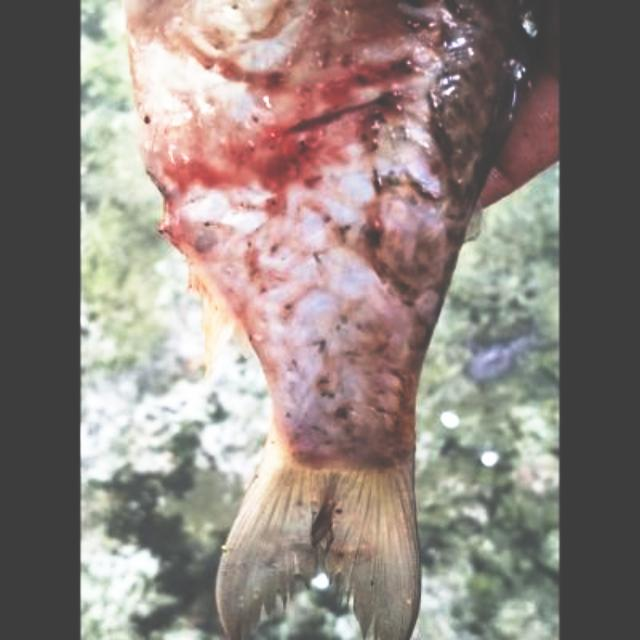Edwardsiella Ictaluri -Bacterial Red Disease-: (125, 0, 539, 638)
